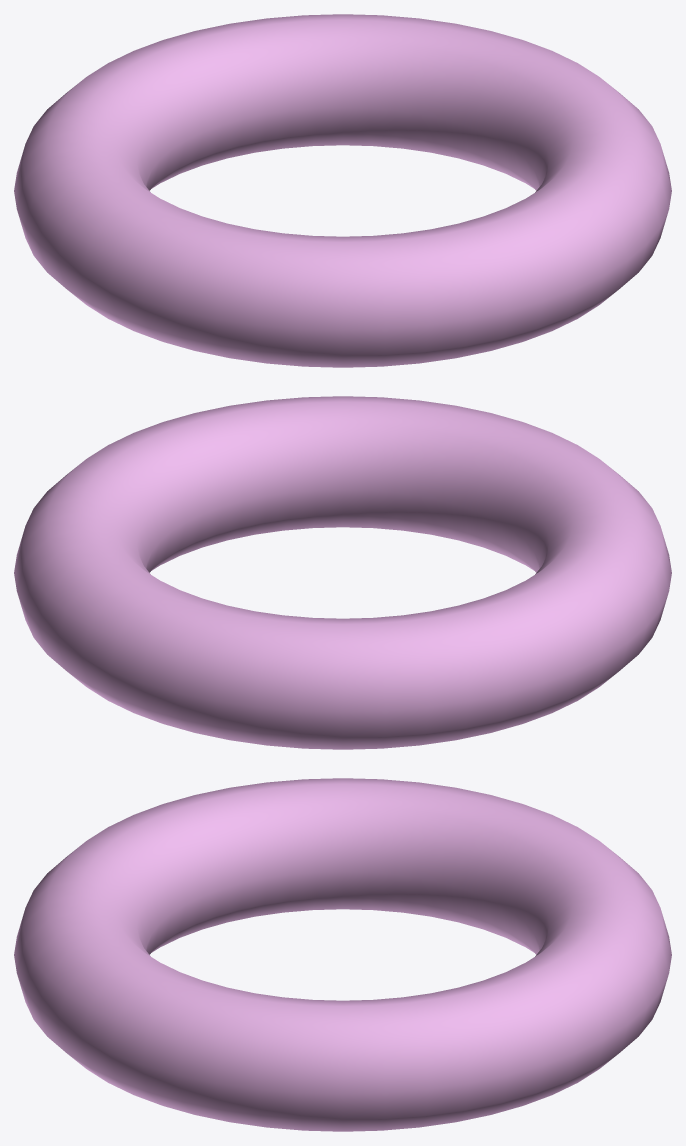
3 renders of one model, top to bottom at view 1: azimuth 30°, elevation 25°; view 2: azimuth 150°, elevation 25°; view 3: azimuth 270°, elevation 25°, orthographic.
Parts seen in each view (by area): view 1: Torus; view 2: Torus; view 3: Torus.
Boxes of the visible parts, x1=… form: Torus: x1=14, y1=14, x2=671, y2=367; Torus: x1=14, y1=396, x2=671, y2=749; Torus: x1=14, y1=778, x2=671, y2=1131.
Size of the model in its own units: 2.5 by 0.5 by 2.5.
